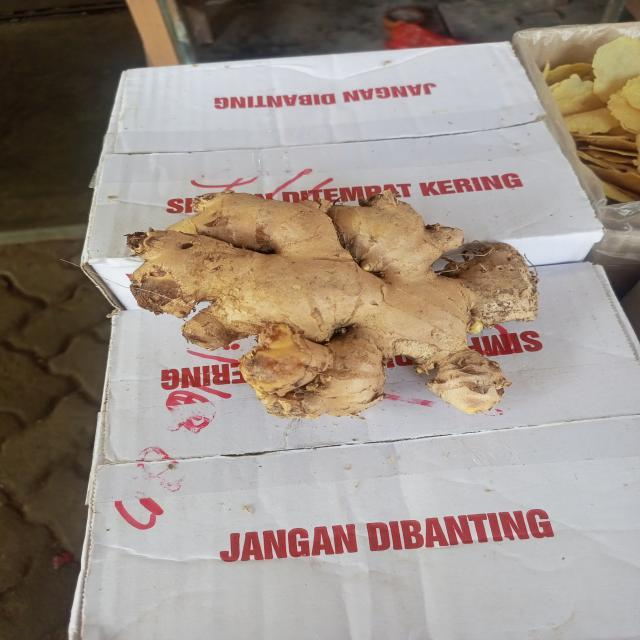ginger: (136, 188, 536, 414)
